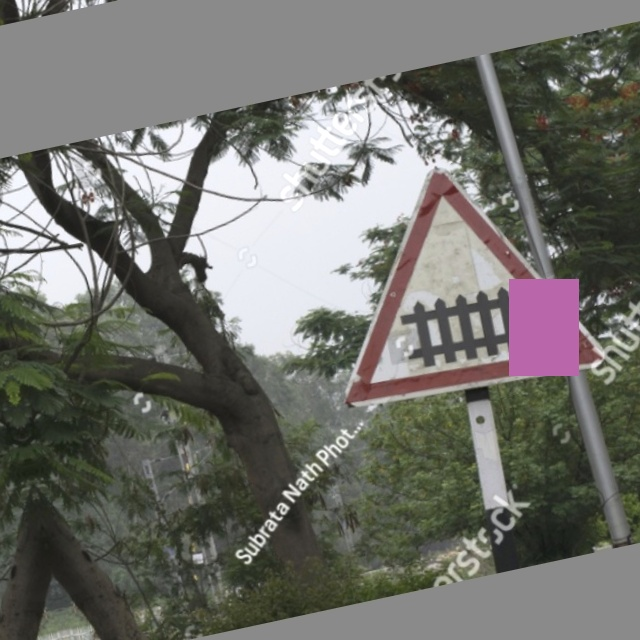Guarded_Level_Crossing: (308, 148, 608, 414)
